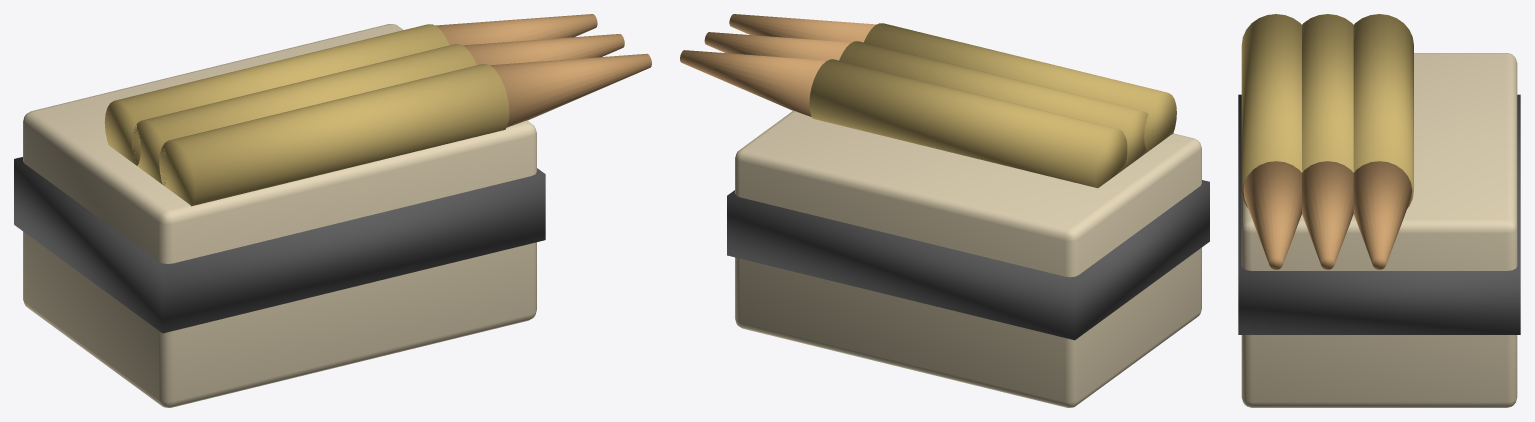
Rendered from SM_Ammo_50bmg.glb.
3 renders of one model, left to right at view 1: azimuth 30°, elevation 25°; view 2: azimuth 150°, elevation 25°; view 3: azimuth 270°, elevation 25°, orthographic. The views are drawn at different scales.
Parts seen in each view (by area): view 1: SM_Ammo_50bmg; view 2: SM_Ammo_50bmg; view 3: SM_Ammo_50bmg.
Part boxes in pixels (x1,y1,x2,y2): SM_Ammo_50bmg: (14, 14, 651, 407); SM_Ammo_50bmg: (680, 14, 1209, 407); SM_Ammo_50bmg: (1238, 14, 1520, 407).
Bounding box in the file's own units: 0.161 × 0.076 × 0.082.
